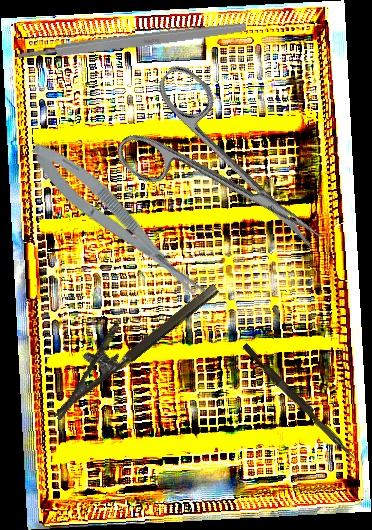Iris Scissors: (104, 60, 350, 290)
Micro Scissor: (22, 132, 213, 312)
Needle Holder: (32, 261, 222, 421)
Pusher: (239, 343, 360, 460)
Scalpel Handle: (17, 20, 247, 62)
